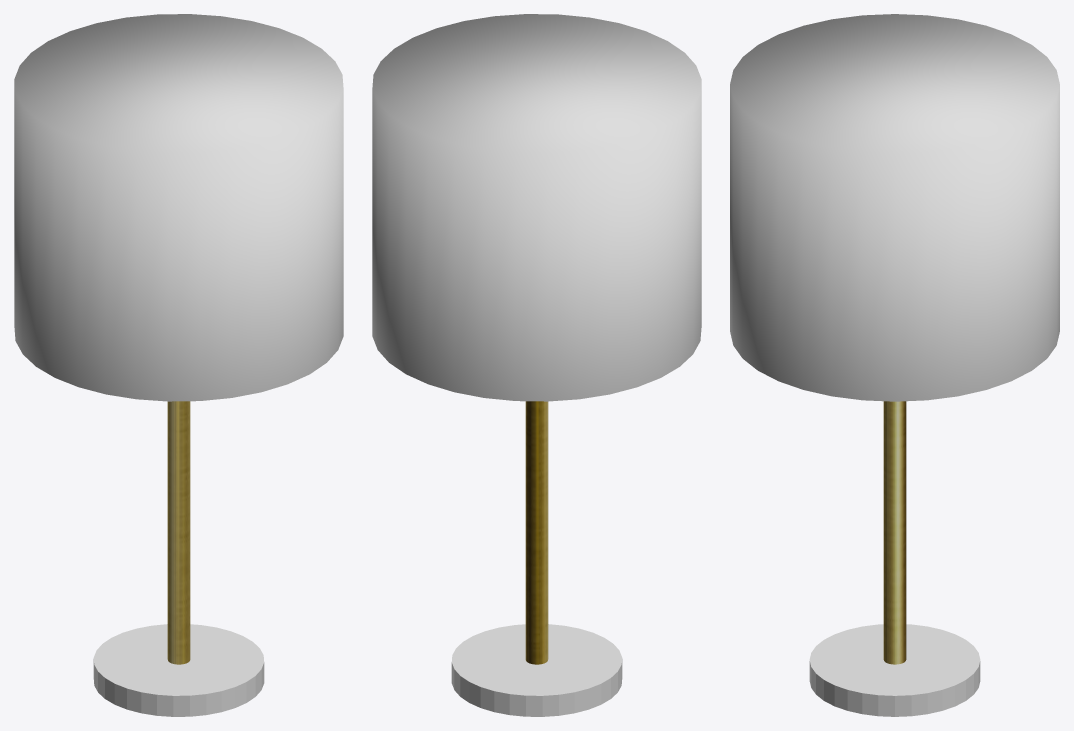
The model's file is Lampara_Mesa_Sala.fbx.
The picture shows the model from 3 angles, left to right: view 1: azimuth 30°, elevation 25°; view 2: azimuth 150°, elevation 25°; view 3: azimuth 270°, elevation 25°; orthographic projection.
Parts seen in each view (by area): view 1: Cylinder.045, Cylinder.044, Cylinder.043; view 2: Cylinder.045, Cylinder.044, Cylinder.043; view 3: Cylinder.045, Cylinder.044, Cylinder.043.
Boxes of the visible parts, x1,y1,x2,y2 form: Cylinder.045: (14,14,343,401); Cylinder.044: (93,624,264,716); Cylinder.043: (167,401,190,664); Cylinder.045: (372,14,701,401); Cylinder.044: (451,624,622,716); Cylinder.043: (525,401,548,664); Cylinder.045: (730,14,1059,401); Cylinder.044: (809,624,980,716); Cylinder.043: (883,401,906,664).
Size of the model in its own units: 19.26 by 38.49 by 19.26.
Materials: 2 (1 with a texture image).
